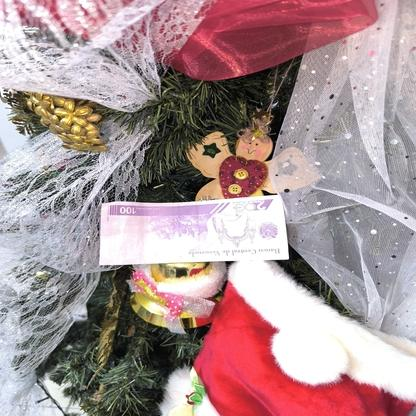one_hundred-back-vef: (100, 194, 288, 266)
